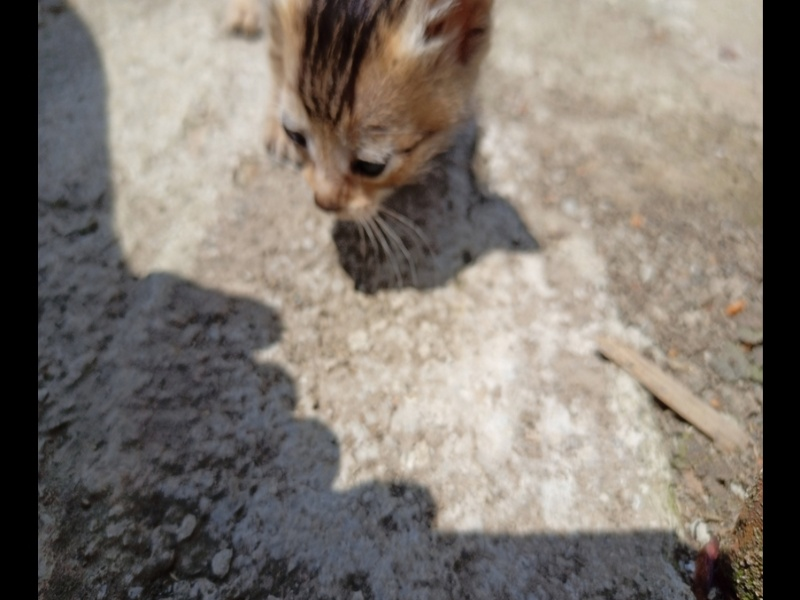cat: (255, 8, 500, 243)
